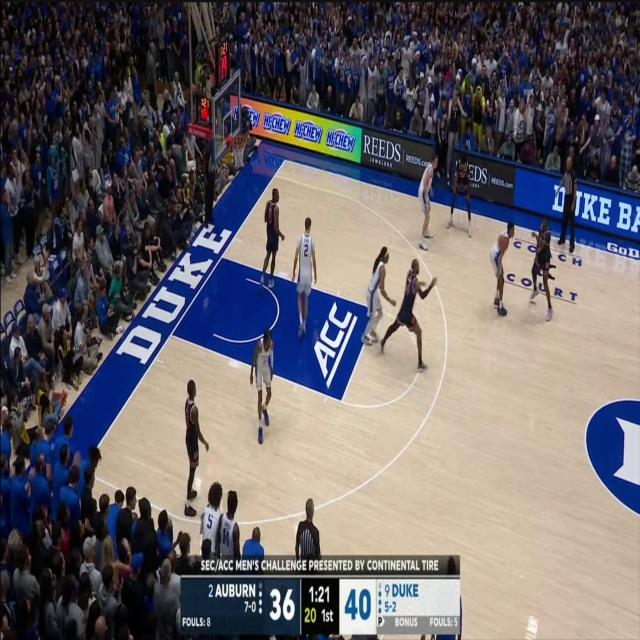basketball: (492, 214, 511, 269)
